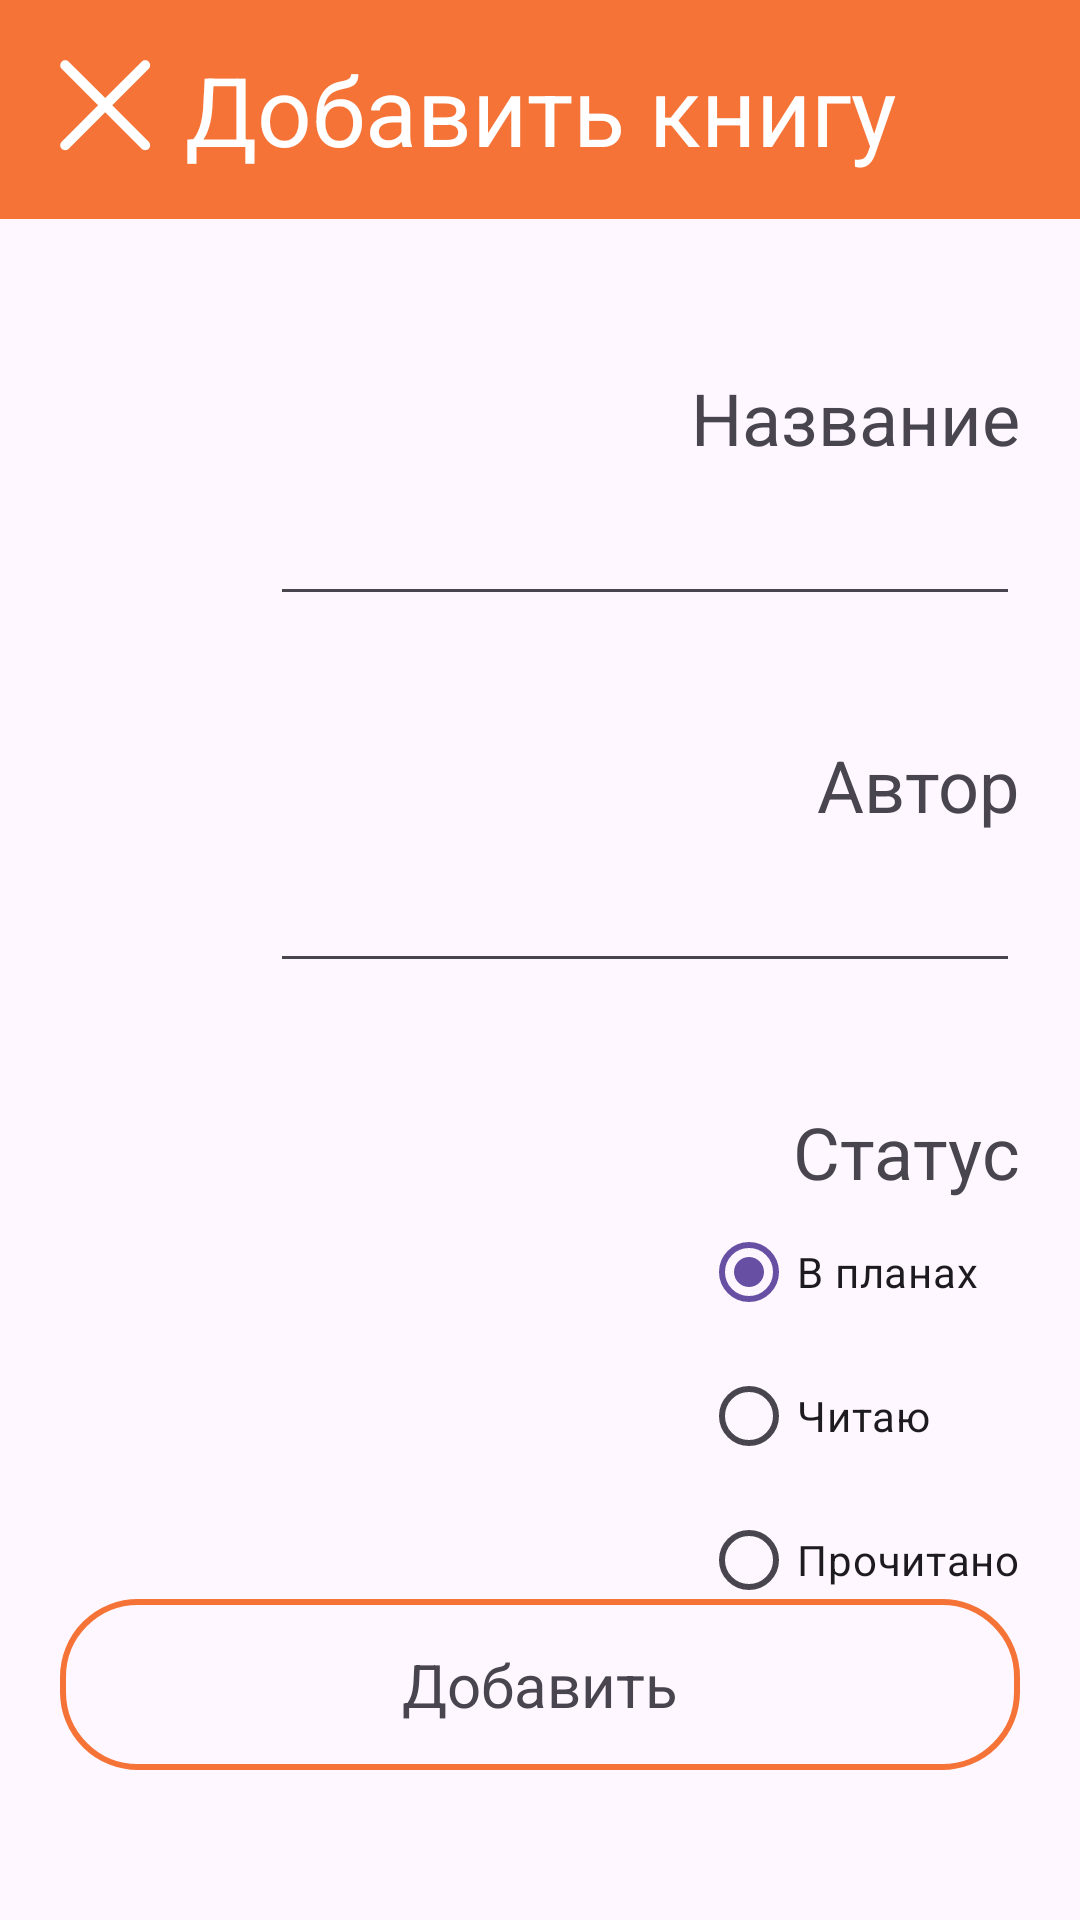

Named icons in this screenshot (1080×1920) and their centers, point (x, y):
close: point (105, 105)
